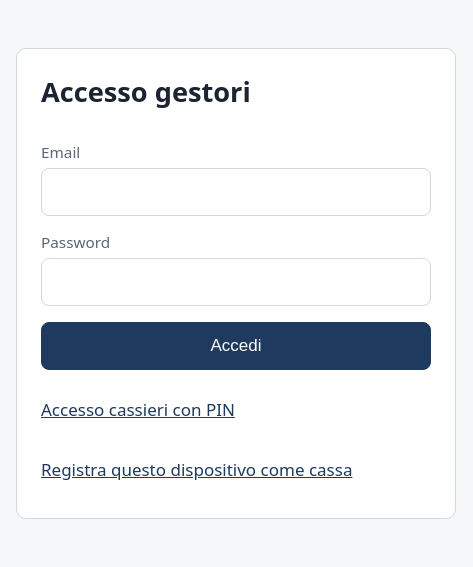
Test: LoginPage › shows the Italian message for wrong credentials
Type "owner@standpos.test" into the field labelled "Email" at (236, 192), box [41, 168, 431, 216]
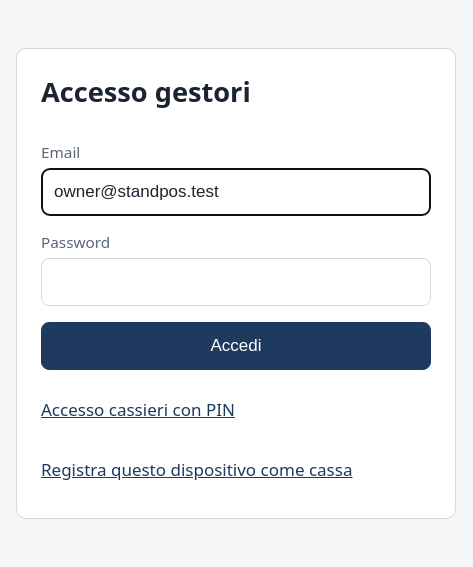
Type "sbagliata" into the password field labelled "Password" at (236, 282), box [41, 258, 431, 306]
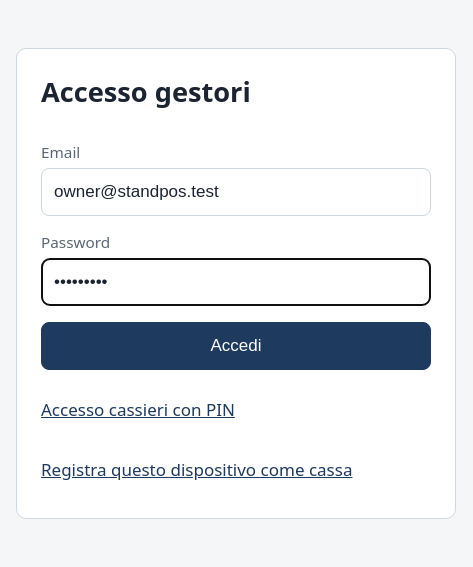
Click the button "Accedi" at (236, 346), box [41, 322, 431, 370]
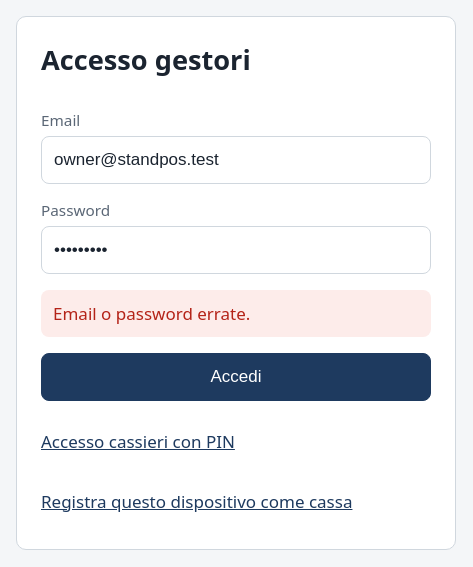
Check: the message reads "Email o password errate.", box [53, 302, 250, 325]
